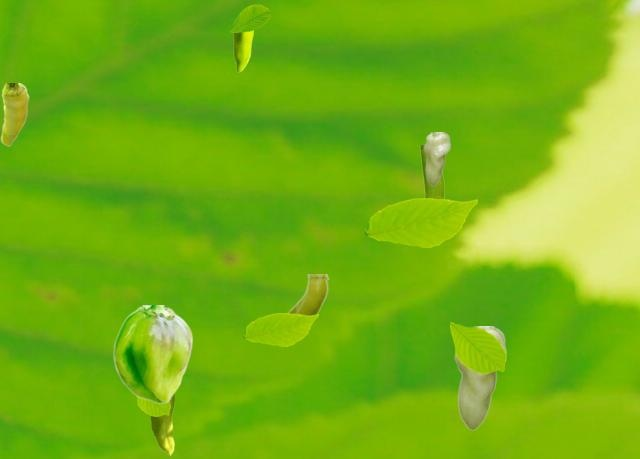green_chili: (113, 305, 192, 403), (454, 326, 505, 429), (0, 83, 28, 145), (287, 274, 328, 314), (423, 132, 449, 185), (149, 397, 173, 454), (419, 145, 443, 197), (233, 19, 252, 71)
